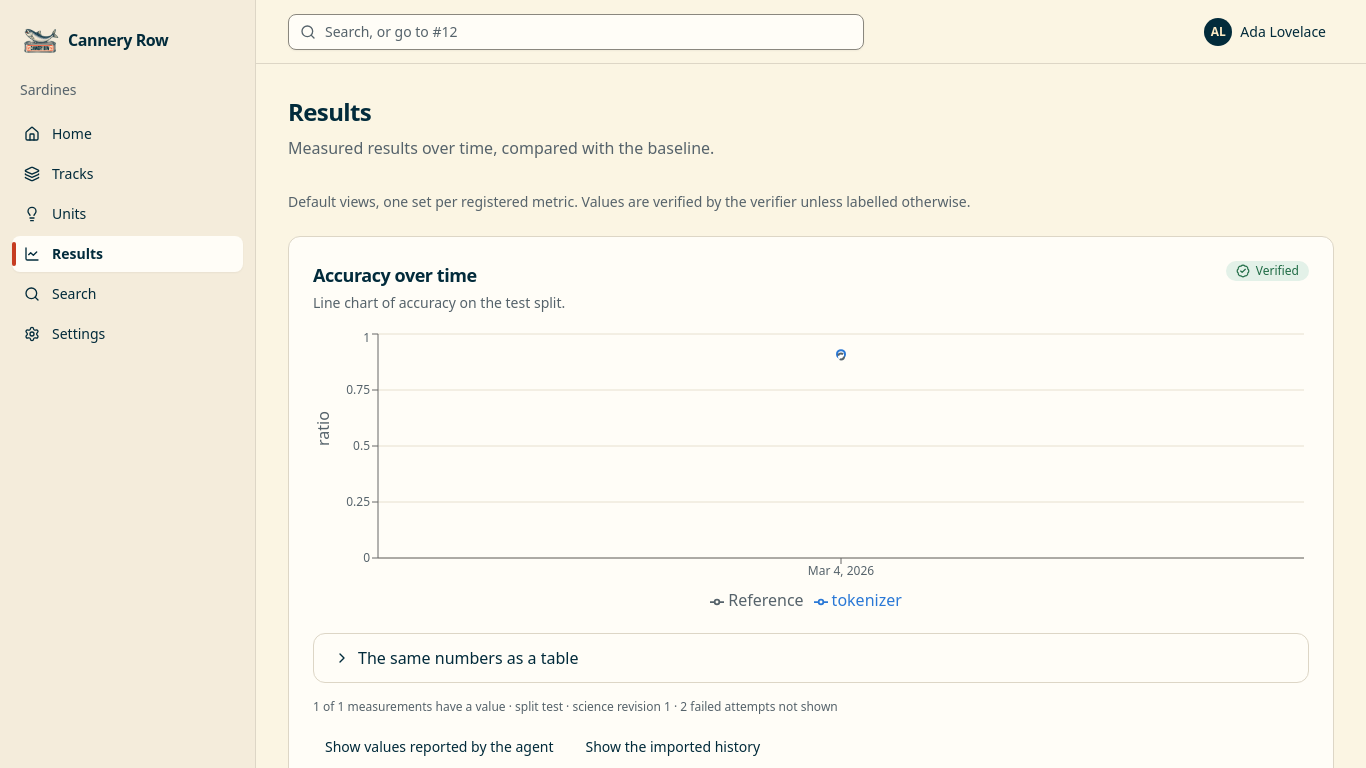
Scenario: Results › shows verified values with a table of the same numbers, and agent claims only on request
This screenshot has width=1366, height=768.
Expected: the element named "Accuracy over time" is shown, [313,329,1309,617]
Expected: the heading "The same numbers as a table" is shown, [334,647,578,669]
Click the button "Show values reported by the agent".
click(439, 747)  # box [313,731,566,763]
(page scrolled)
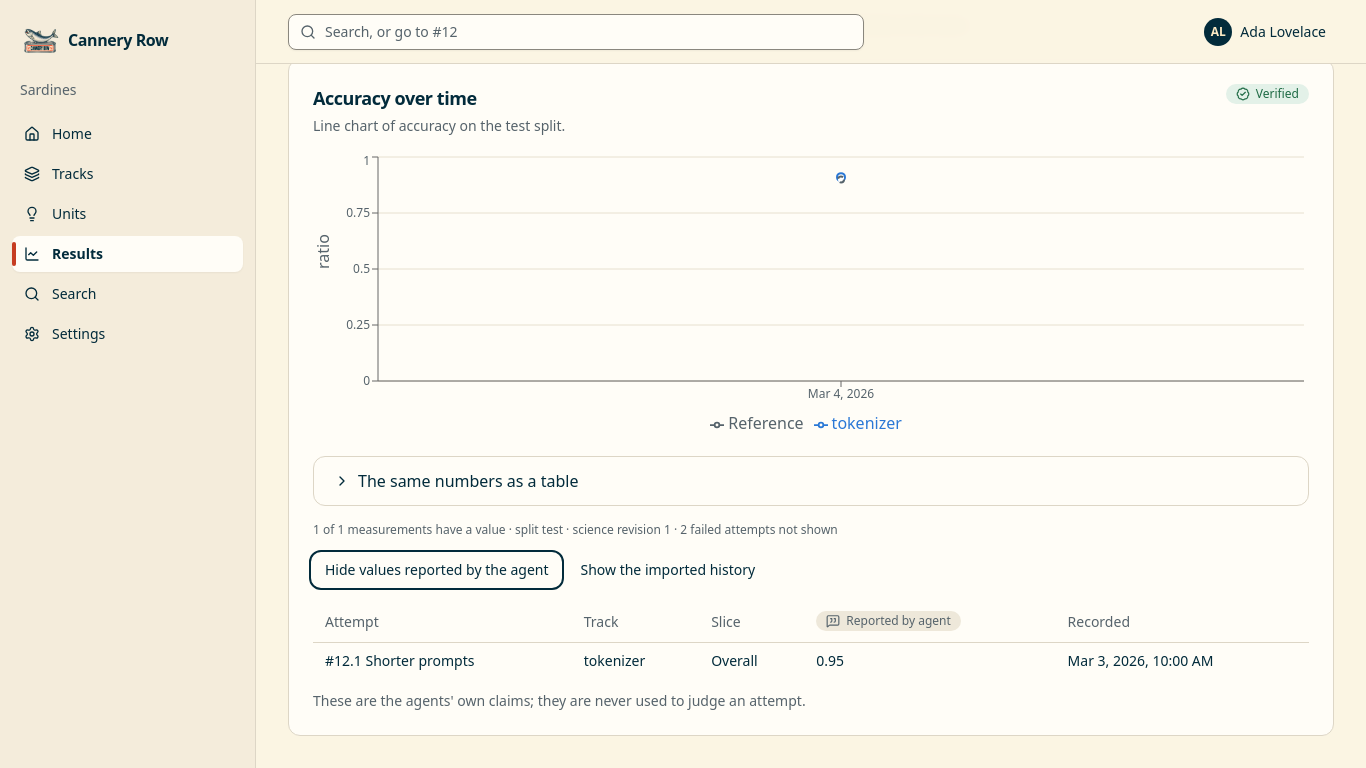
Expected: the text "Reported by agent" is shown, [816,611,961,631]
Expected: the text "#12.1 Shorter prompts" is shown, [313,642,572,678]
